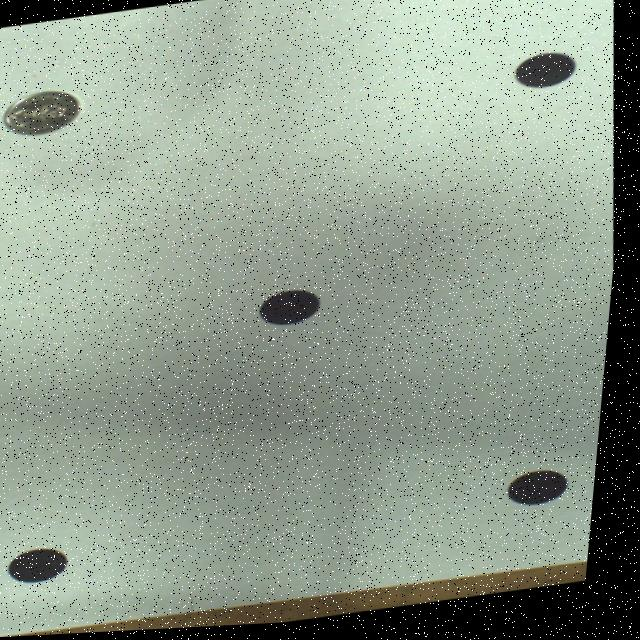space: (265, 292, 327, 327), (516, 476, 578, 511), (516, 57, 576, 92), (19, 548, 78, 582)
tail1bath: (6, 90, 83, 134)
